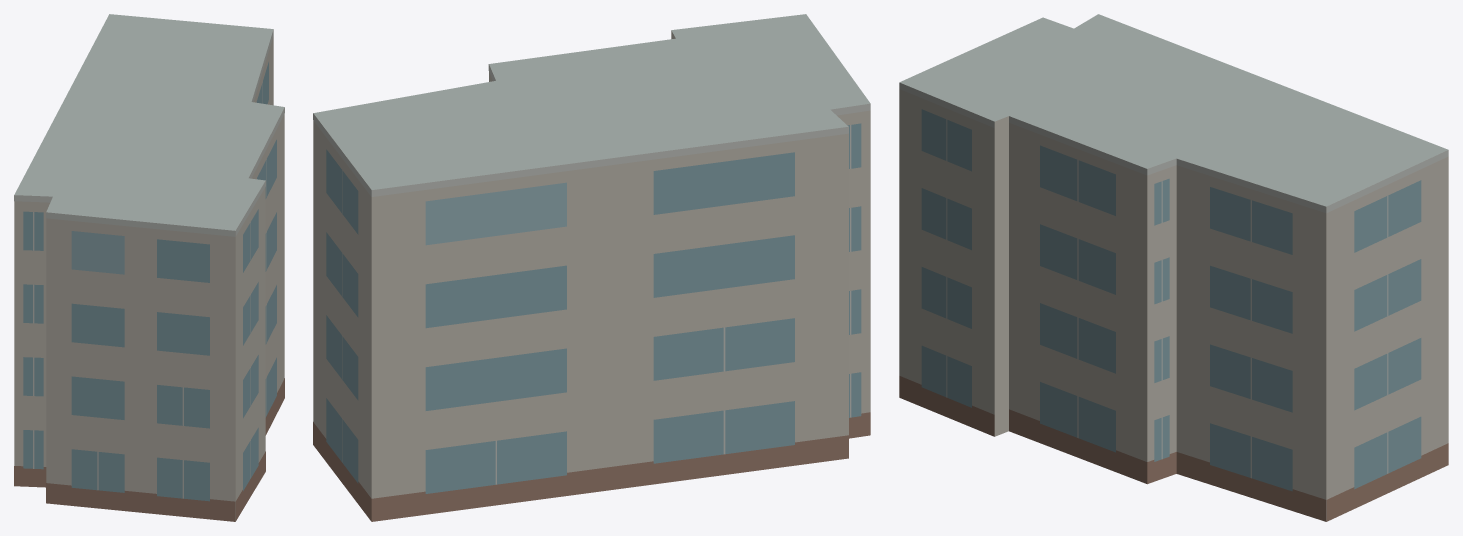
Rendered from survey-upis-33045400.glb.
3 renders of one model, left to right at view 1: azimuth 30°, elevation 25°; view 2: azimuth 150°, elevation 25°; view 3: azimuth 270°, elevation 25°, orthographic. The views are drawn at different scales.
Visible parts, largest first — view 1: survey-upis-33045400.tmp; view 2: survey-upis-33045400.tmp; view 3: survey-upis-33045400.tmp.
Part boxes in pixels (bbox=[...]): survey-upis-33045400.tmp: bbox=[14, 14, 284, 521]; survey-upis-33045400.tmp: bbox=[313, 14, 870, 521]; survey-upis-33045400.tmp: bbox=[899, 14, 1448, 521].
Bounding box in the file's own units: 15.35 × 11.7 × 18.49.
